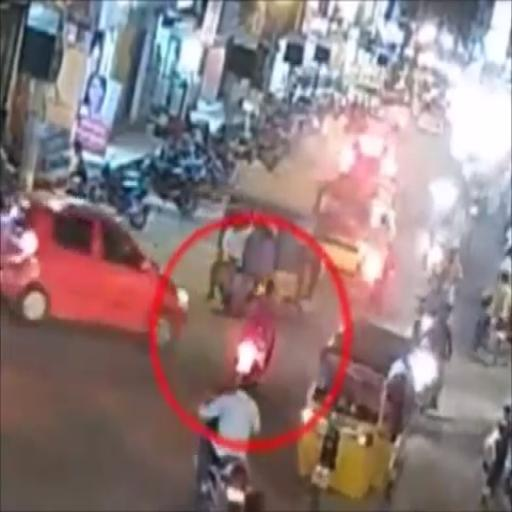小汽车: (2, 186, 189, 354), (296, 316, 415, 501), (216, 197, 322, 309)
自行车: (195, 388, 268, 508), (234, 280, 278, 390)
